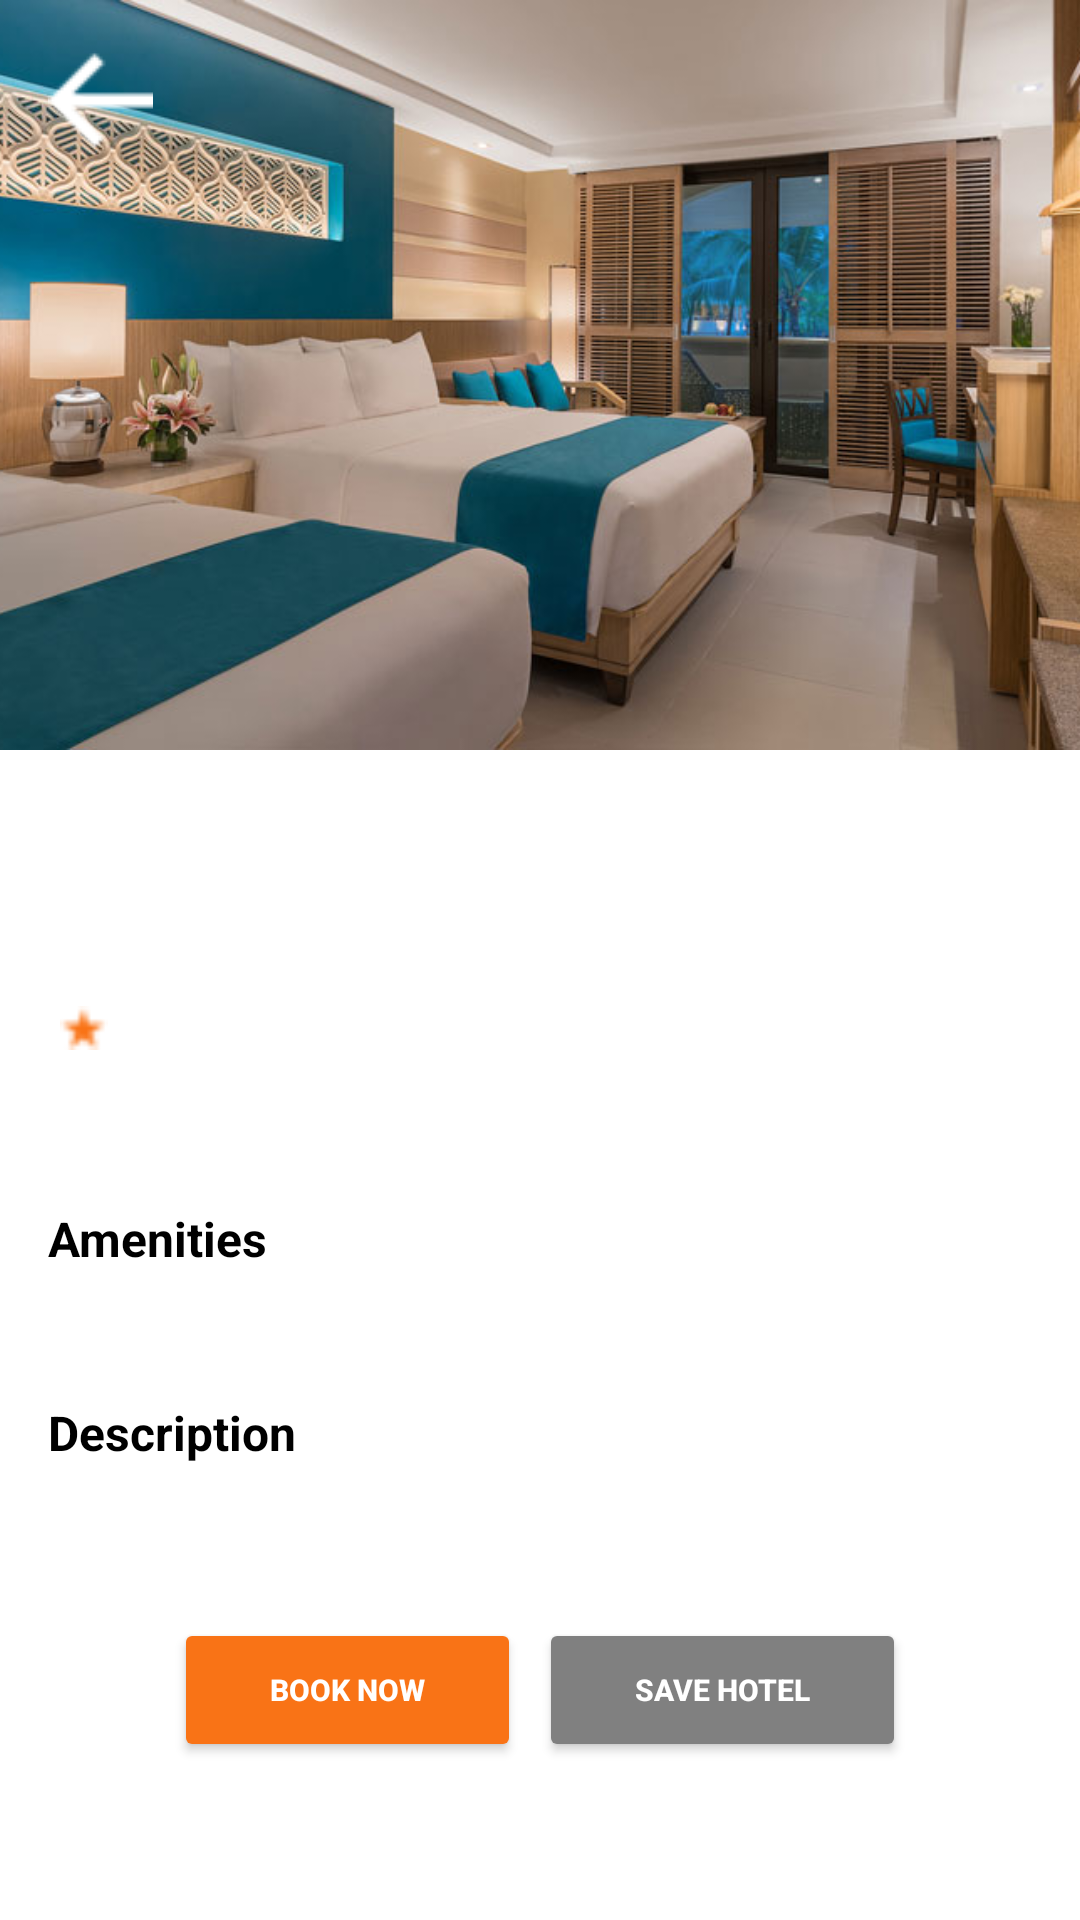

Named icons in this screenshot (1080x1920) and their centers, [x,y]:
Back button: [100,100]
Star Rating: [83,1029]
